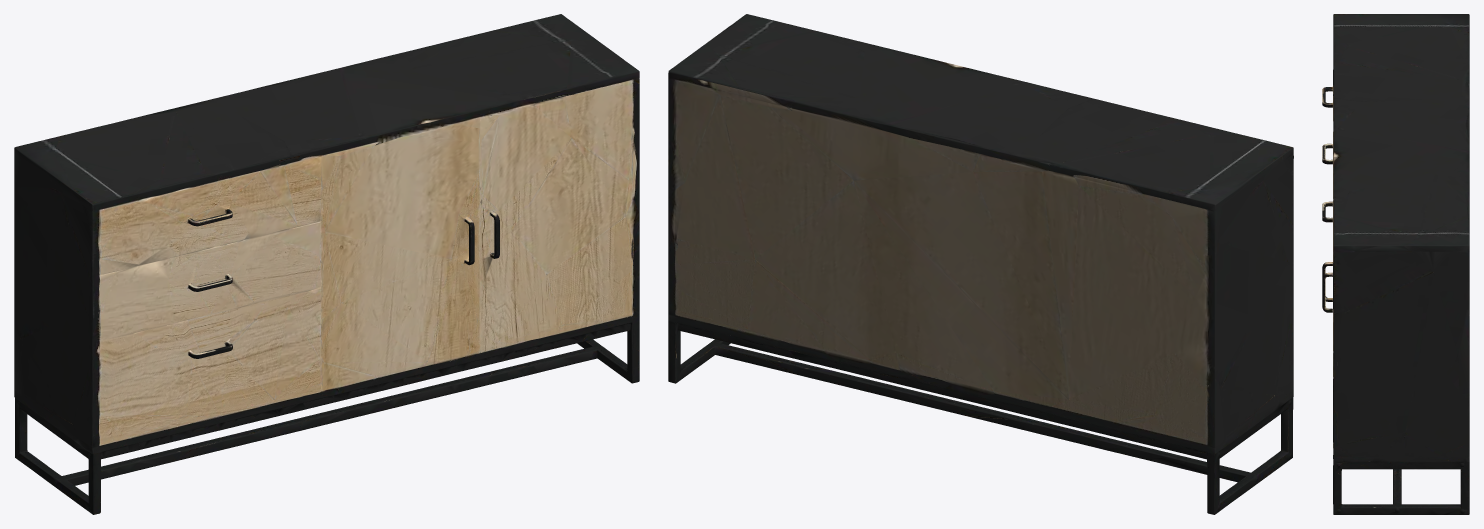
File: sideboard.glb
3 renders of one model, left to right at view 1: azimuth 30°, elevation 25°; view 2: azimuth 150°, elevation 25°; view 3: azimuth 270°, elevation 25°, orthographic. The views are drawn at different scales.
Bounding box in the file's own units: 1.9 × 1.03 × 0.5113.
1 material, 1 textured.
